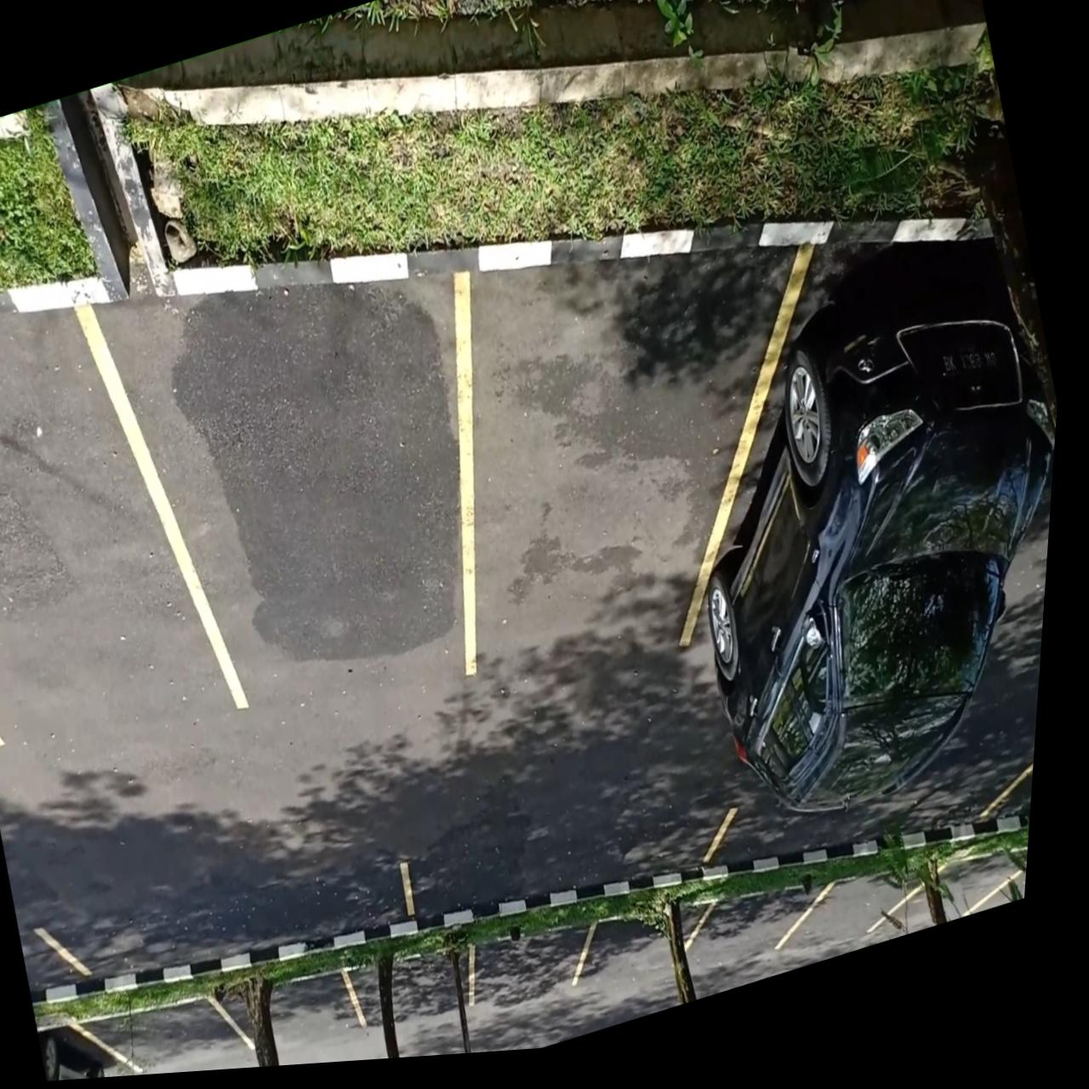cars: (82, 268, 470, 709)
empty: (463, 242, 810, 672), (37, 864, 411, 975), (404, 808, 732, 912), (706, 756, 1034, 860), (776, 864, 945, 948), (867, 847, 1028, 931), (71, 997, 253, 1071), (675, 883, 832, 964), (574, 901, 715, 984), (210, 971, 364, 1046), (471, 923, 594, 1005), (344, 947, 471, 1025)
